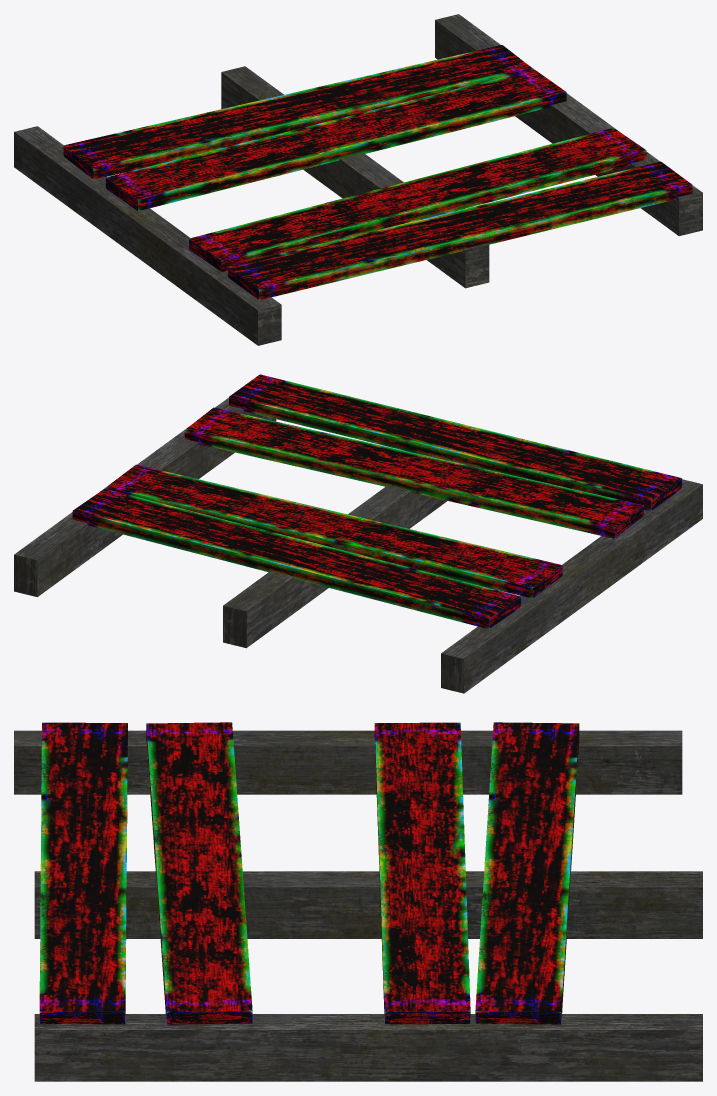
File: SM_PlankCeiling_5.fbx
3 views of the same model, one above another, from view 1: azimuth 30°, elevation 25°; view 2: azimuth 150°, elevation 25°; view 3: azimuth 270°, elevation 25° (orthographic). The views are drawn at different scales.
Parts seen in each view (by area): view 1: SM_PlankCeiling_5_LOD0; view 2: SM_PlankCeiling_5_LOD0; view 3: SM_PlankCeiling_5_LOD0.
Boxes of the visible parts, x1=… form: SM_PlankCeiling_5_LOD0: x1=14, y1=14, x2=702, y2=345; SM_PlankCeiling_5_LOD0: x1=14, y1=374, x2=702, y2=693; SM_PlankCeiling_5_LOD0: x1=14, y1=722, x2=702, y2=1081.
Size of the model in its own units: 317 by 305 by 31.31.
